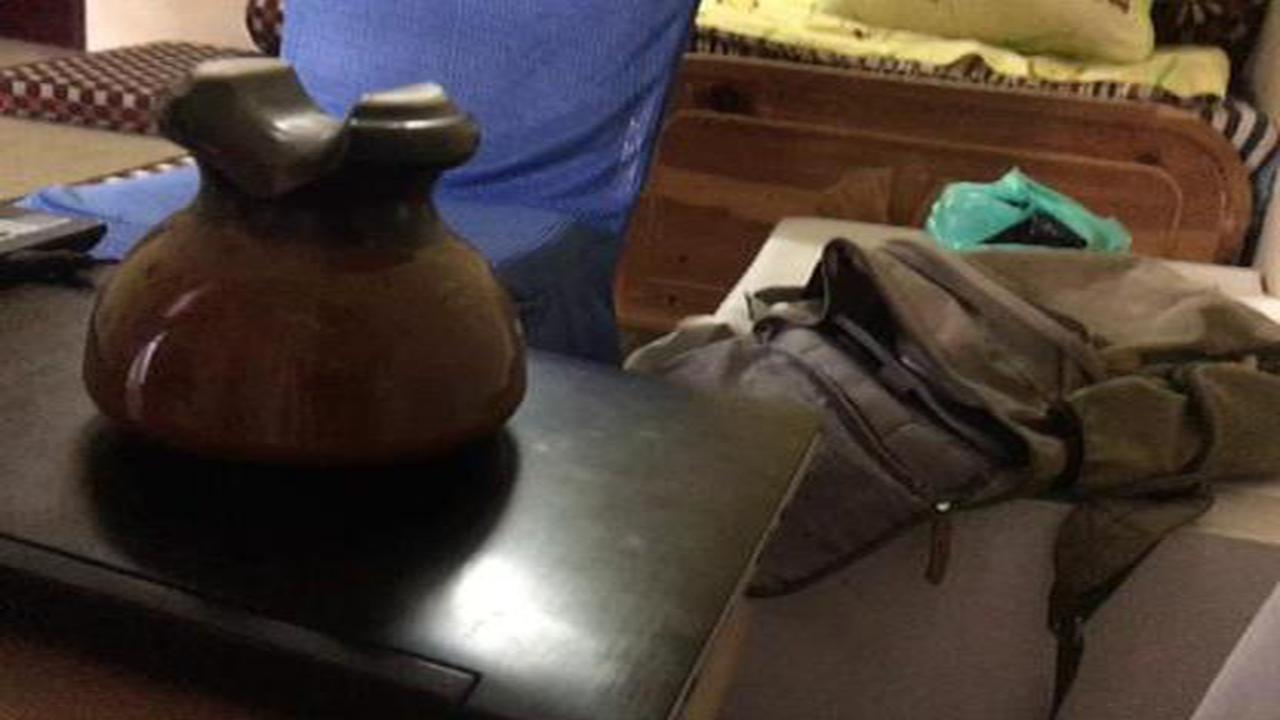insulator_pin: (77, 30, 533, 470)
